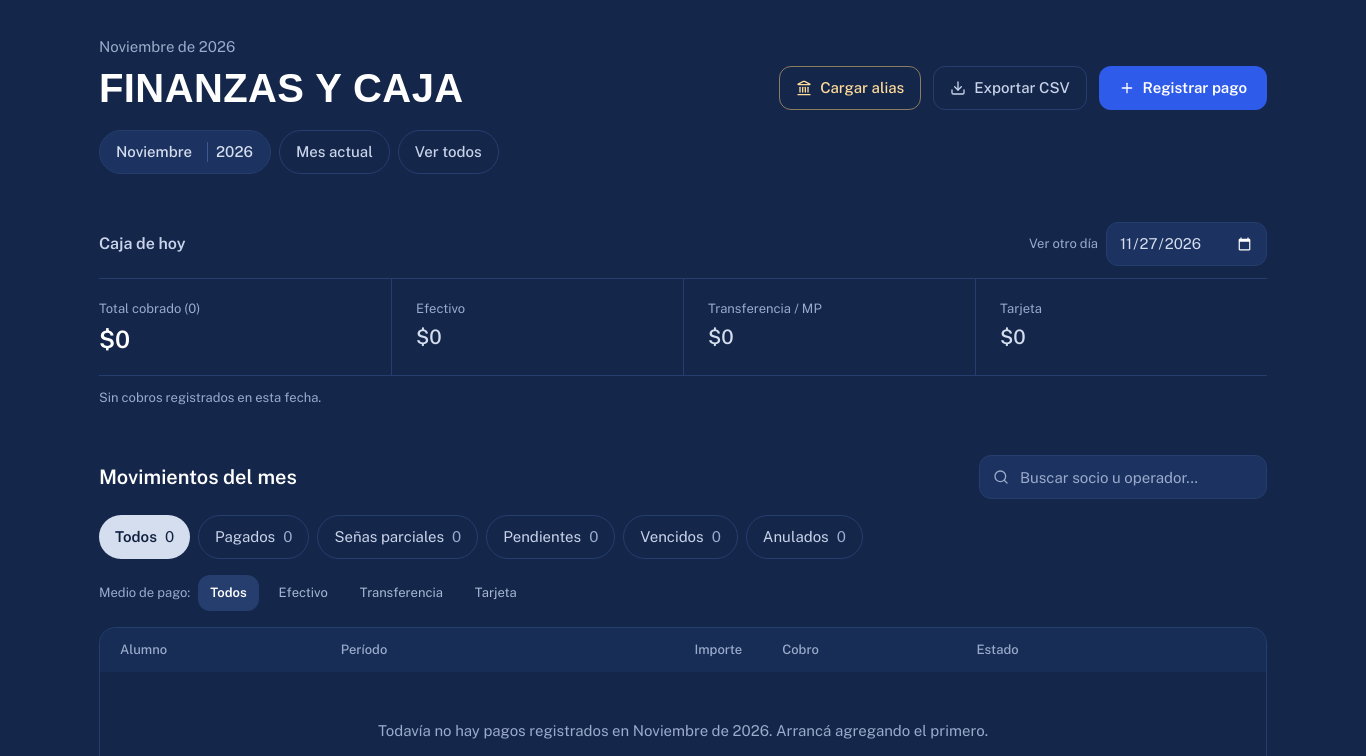
Test: Finanzas del administrador › muestra el pago historico y su baja aunque la ficha no este en el listado
What coordinates should you click on to do the following:
click the button "Ver todos"
I would click on:
 (448, 152)
Its box is [398,130,499,174].
(page scrolled)
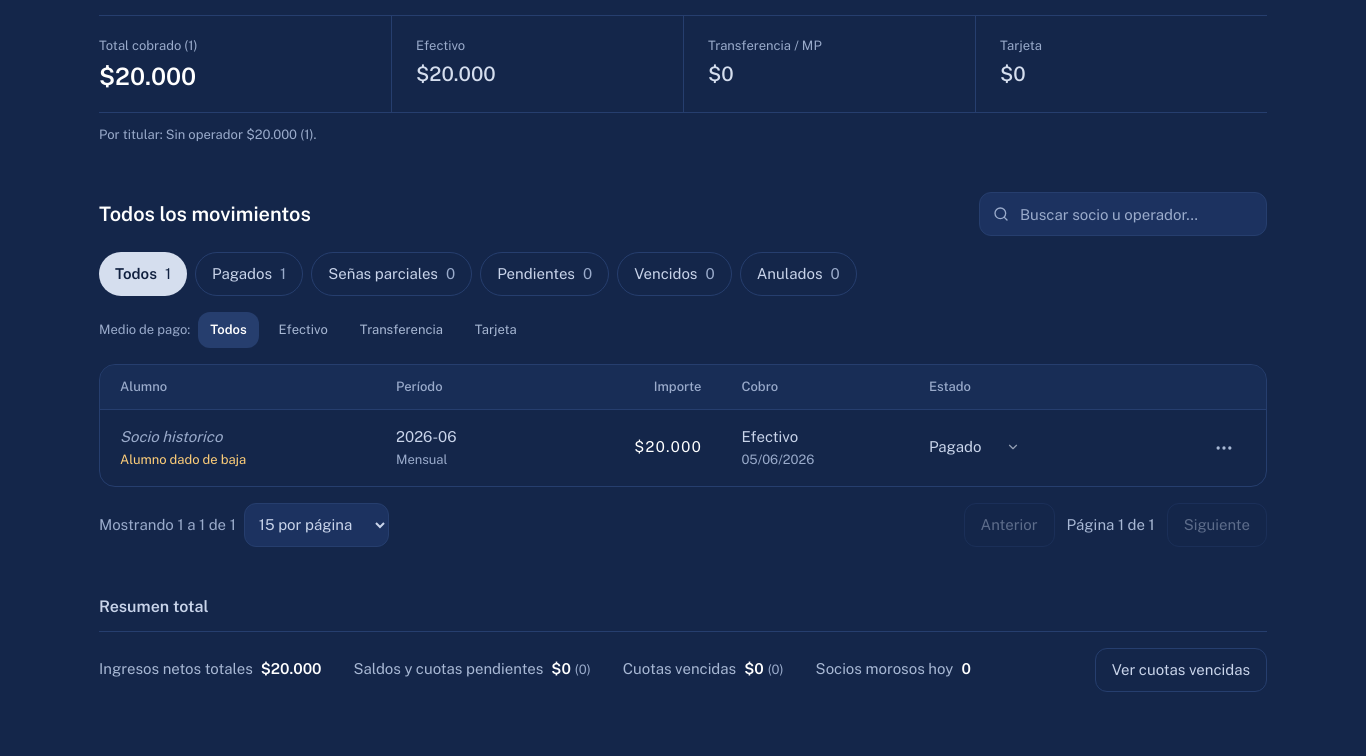
Expected: the text "Alumno dado de baja" is shown, [120,452,246,467]
Expected: the text "$20.000" in the row of "Socio historico" is shown, [634,438,701,455]
Expected: the dropdown named "Cambiar estado del pago" shows "Pagado", [929,436,1020,458]
